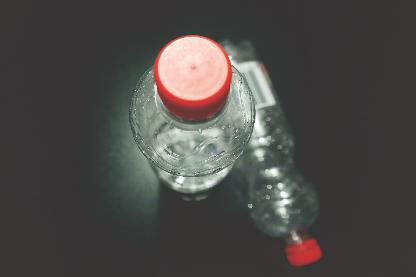Plastic Bottle: (129, 33, 257, 195)
